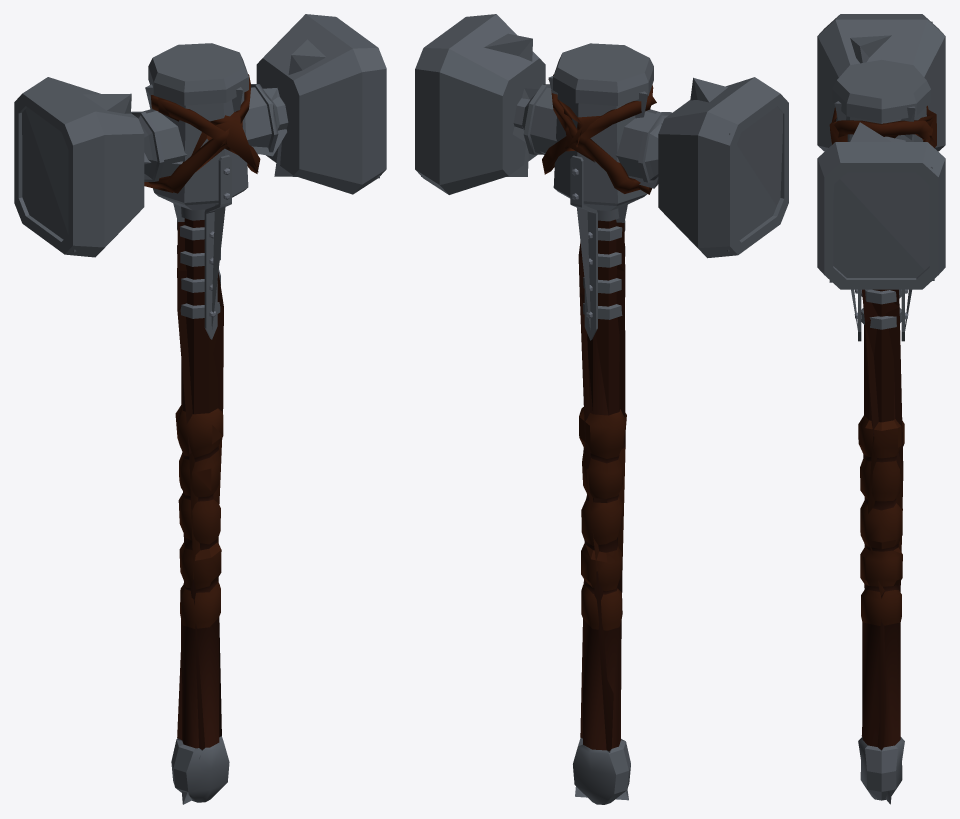
File: Hammer_Double.fbx
3 views of the same model, side by side, from view 1: azimuth 30°, elevation 25°; view 2: azimuth 150°, elevation 25°; view 3: azimuth 270°, elevation 25° (orthographic). The views are drawn at different scales.
Parts seen in each view (by area): view 1: High_Hammer_Double, Low_Hammer_Double; view 2: High_Hammer_Double, Low_Hammer_Double; view 3: High_Hammer_Double, Low_Hammer_Double.
Part boxes in pixels (x1,y1,x2,y2): High_Hammer_Double: [14, 14, 386, 802]; Low_Hammer_Double: [22, 39, 379, 804]; High_Hammer_Double: [415, 14, 788, 804]; Low_Hammer_Double: [421, 33, 782, 800]; High_Hammer_Double: [817, 14, 945, 800]; Low_Hammer_Double: [829, 21, 936, 804].
Size of the model in its own units: 222 by 497 by 80.57.
